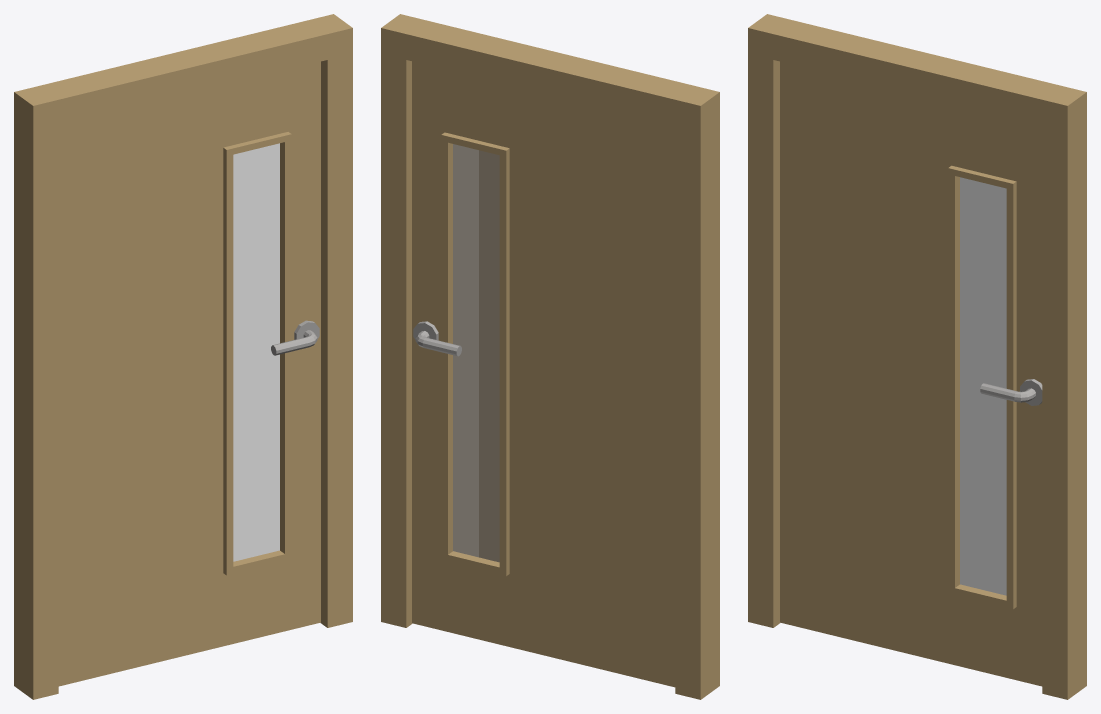
Rendered from OfficeDoor.fbx.
3 views of the same model, side by side, from view 1: azimuth 30°, elevation 25°; view 2: azimuth 150°, elevation 25°; view 3: azimuth 330°, elevation 25° (orthographic).
Visible parts, largest first — view 1: Cube.001, Cube, Cube.004; view 2: Cube.001, Cube, Cube.004; view 3: Cube.001, Cube, Cube.004.
Part boxes in pixels (x1,y1,x2,y2): Cube.001: (58, 61, 320, 686); Cube: (14, 14, 352, 699); Cube.004: (233, 143, 279, 561); Cube.001: (412, 61, 675, 687); Cube: (381, 14, 719, 699); Cube.004: (453, 144, 499, 562); Cube.001: (780, 61, 1042, 686); Cube: (748, 14, 1086, 699); Cube.004: (960, 177, 1006, 595).
Size of the model in its own units: 125 by 221 by 20.93.
